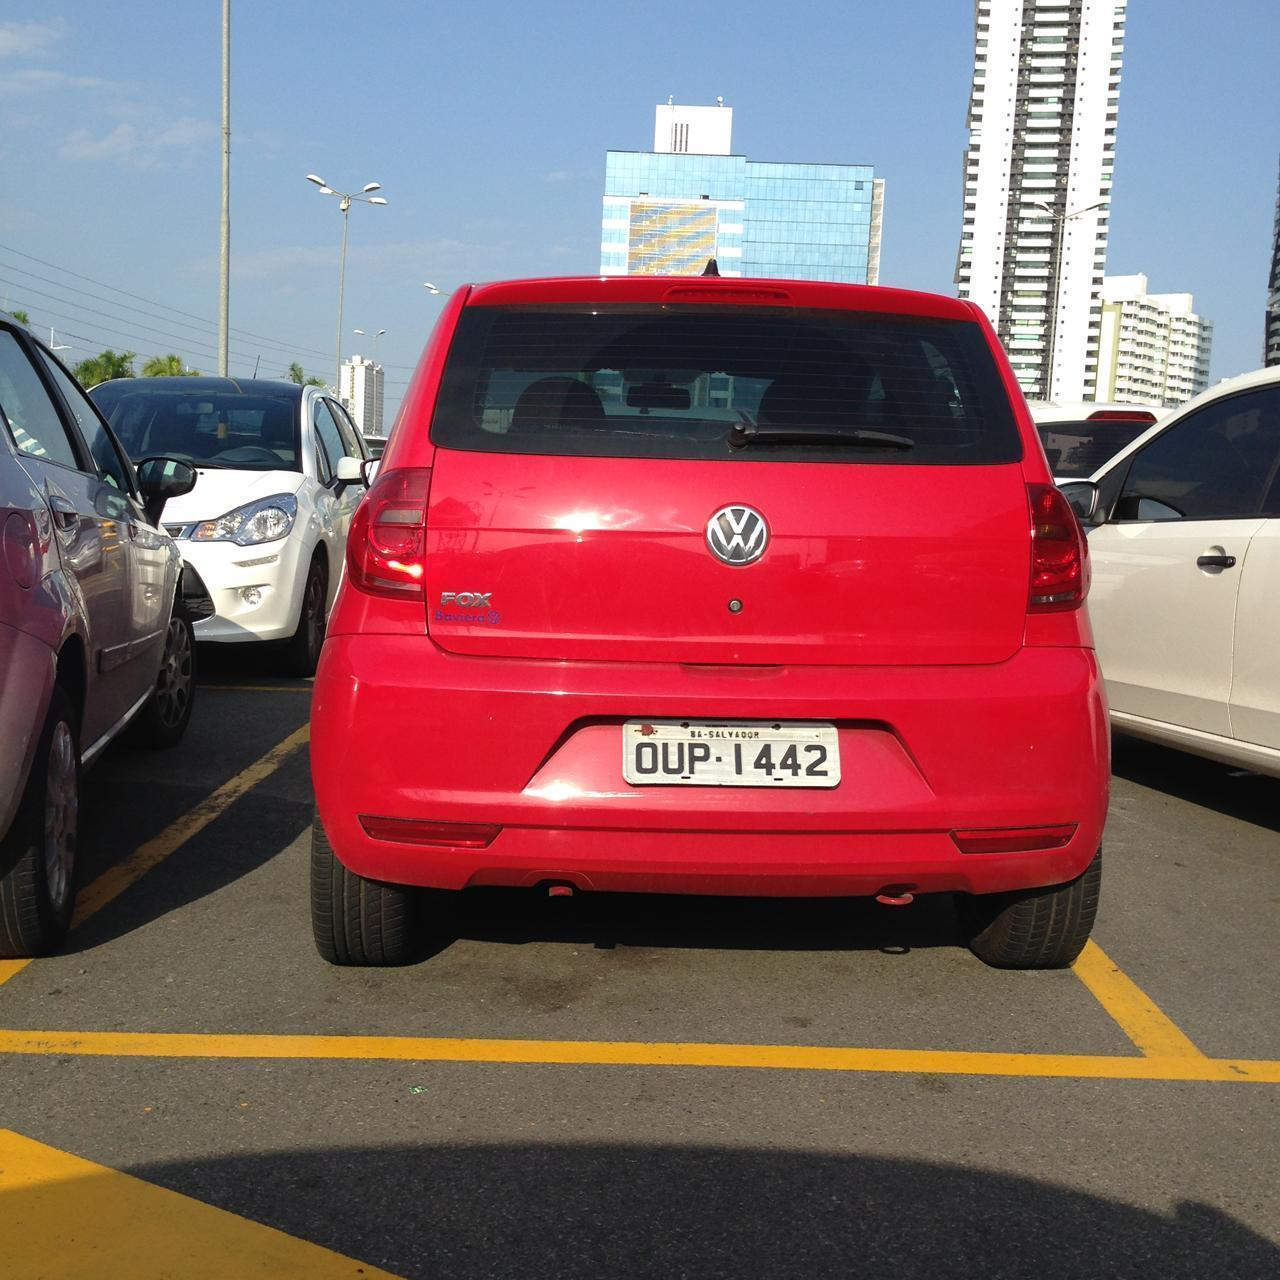placa de veiculo: (601, 697, 860, 806)
